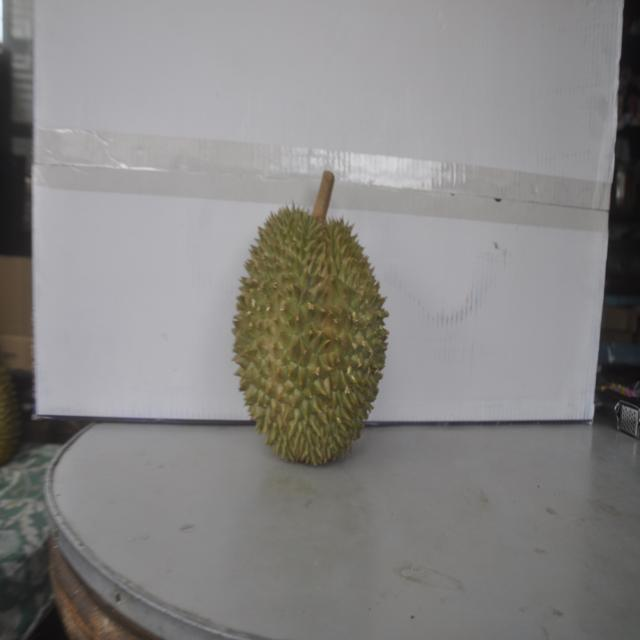mature: (230, 194, 390, 467)
